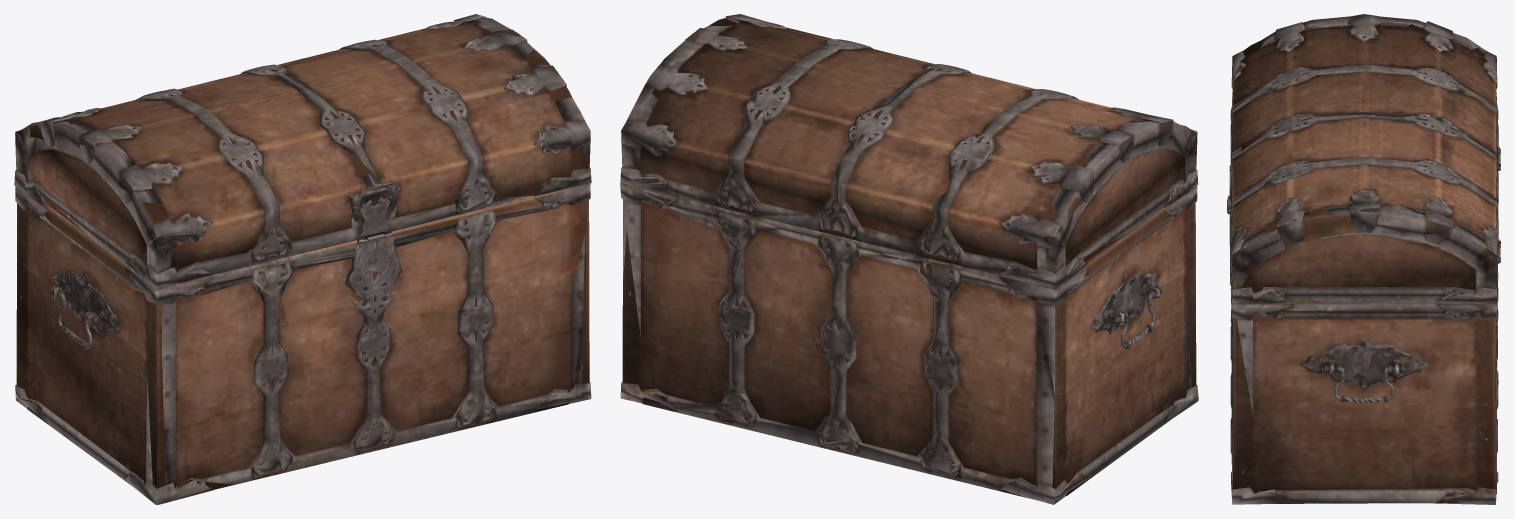
Rendered from treasure_chest.glb.
3 renders of one model, left to right at view 1: azimuth 30°, elevation 25°; view 2: azimuth 150°, elevation 25°; view 3: azimuth 270°, elevation 25°, orthographic. The views are drawn at different scales.
Visible parts, largest first — view 1: treasure_chest_bottom, treasure_chest_lid, treasure_chest_lock, treasure_chest_handle_left; view 2: treasure_chest_bottom, treasure_chest_lid, treasure_chest_handle_left; view 3: treasure_chest_lid, treasure_chest_bottom, treasure_chest_handle_right.
Part boxes in pixels (<box>): treasure_chest_bottom: <box>15,183,591,504</box>; treasure_chest_lid: <box>14,14,591,289</box>; treasure_chest_lock: <box>349,233,399,323</box>; treasure_chest_handle_left: <box>50,286,99,349</box>; treasure_chest_bottom: <box>620,183,1198,504</box>; treasure_chest_lid: <box>620,14,1198,288</box>; treasure_chest_handle_left: <box>1113,286,1162,348</box>; treasure_chest_lid: <box>1227,14,1500,303</box>; treasure_chest_bottom: <box>1230,153,1500,504</box>; treasure_chest_handle_right: <box>1321,365,1407,402</box>.
Bounding box in the file's own units: 0.9558 × 0.6163 × 0.5223.
Materials: 1 (1 with a texture image).
